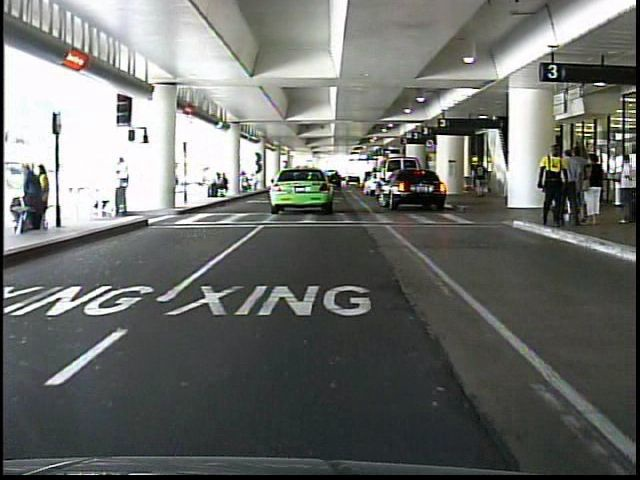person: (531, 144, 570, 237), (110, 157, 143, 224), (561, 145, 586, 233), (605, 152, 635, 225), (583, 150, 603, 233), (469, 156, 494, 204)
